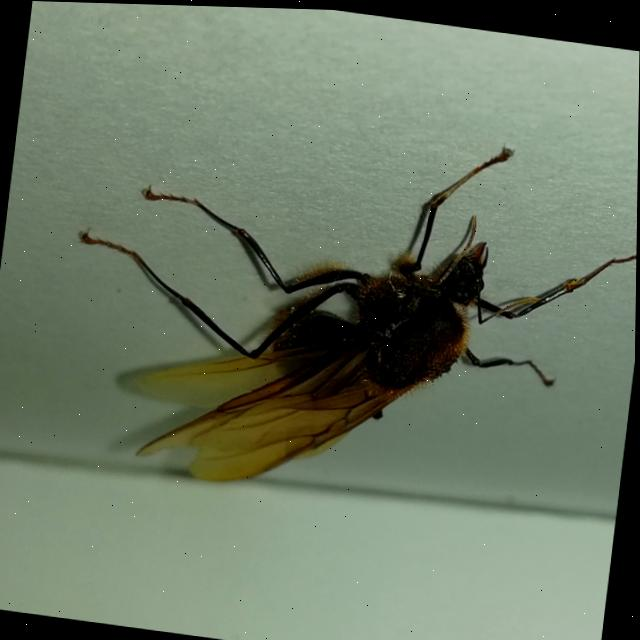Alive-Female-Alate: (48, 85, 639, 534)
